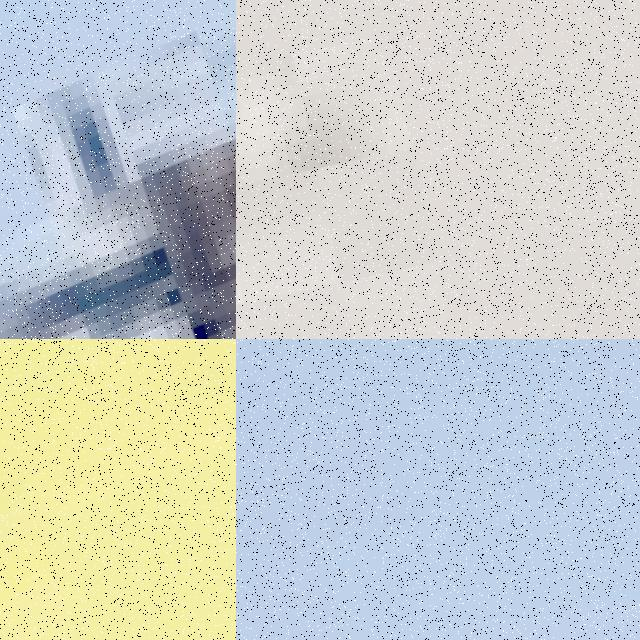0: (0, 0, 236, 339)
drone: (0, 339, 236, 640)
